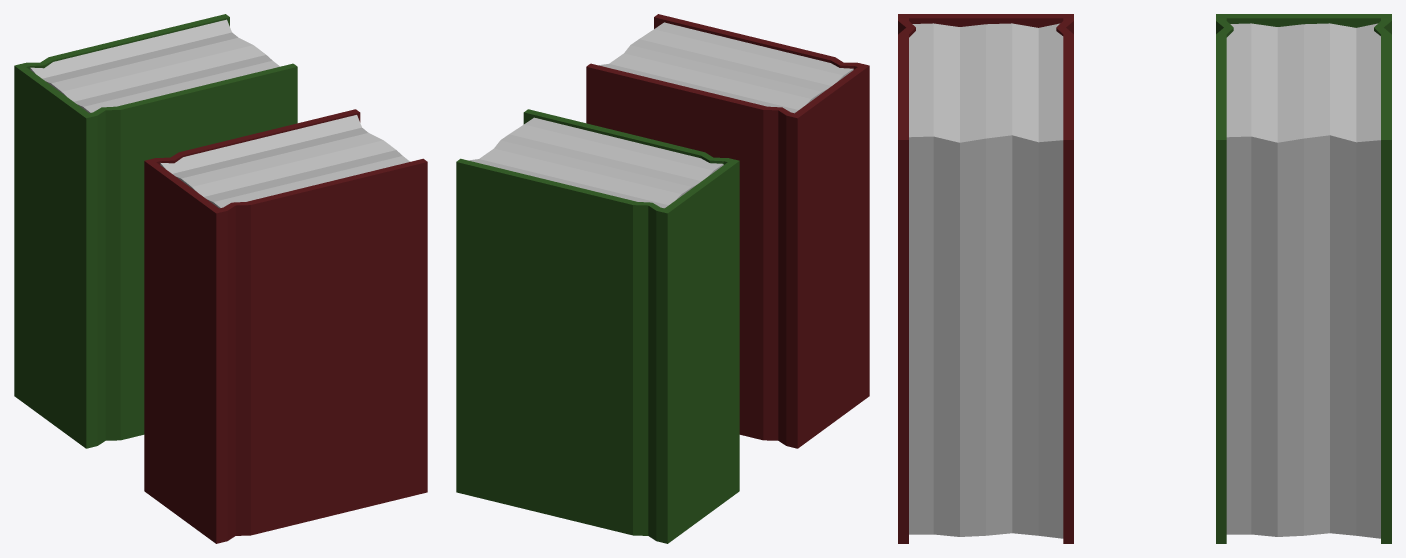
Rendered from Books.fbx.
3 views of the same model, side by side, from view 1: azimuth 30°, elevation 25°; view 2: azimuth 150°, elevation 25°; view 3: azimuth 270°, elevation 25° (orthographic). The views are drawn at different scales.
Visible parts, largest first — view 1: RedBook, GreenBook; view 2: GreenBook, RedBook; view 3: GreenBook, RedBook.
Boxes of the visible parts, left/top/right/bottom form: RedBook: left=144, top=109, right=427, bottom=543; GreenBook: left=14, top=14, right=297, bottom=448; GreenBook: left=456, top=109, right=739, bottom=543; RedBook: left=586, top=14, right=869, bottom=448; GreenBook: left=1216, top=14, right=1391, bottom=543; RedBook: left=898, top=14, right=1073, bottom=543.
Size of the model in its own units: 56.02 by 83.62 by 92.68.
